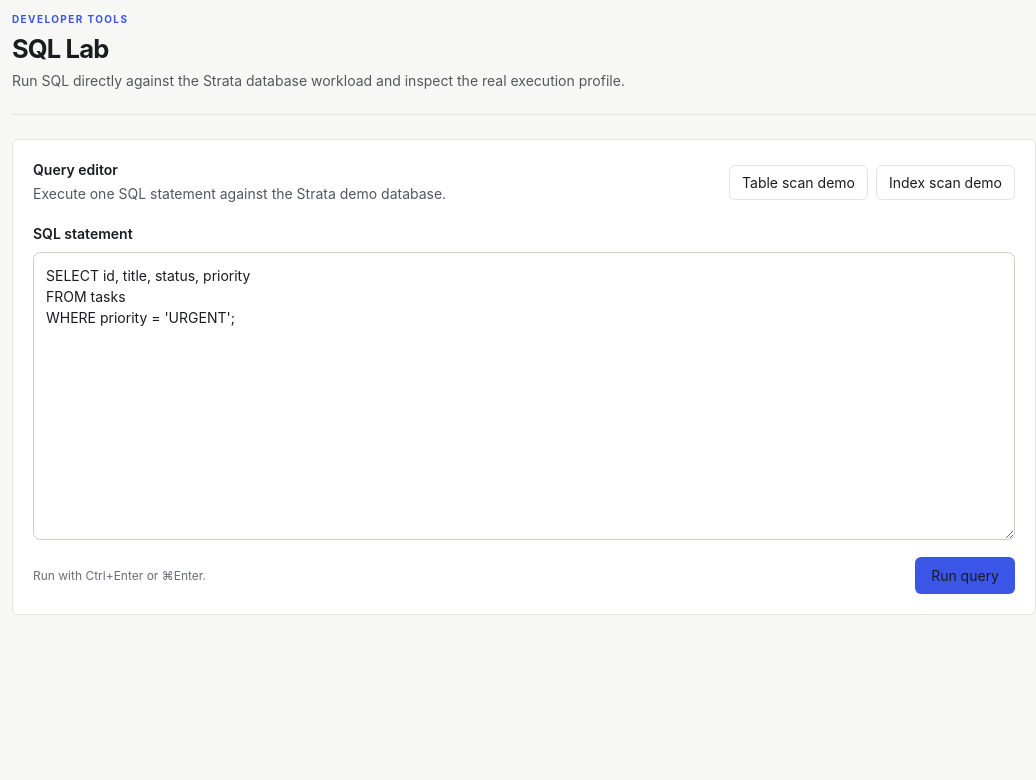
Scenario: SqlConsolePage › renders backend-unavailable guidance for network failures
Click the button "Run query".
click(965, 576)  # box [915,557,1015,594]
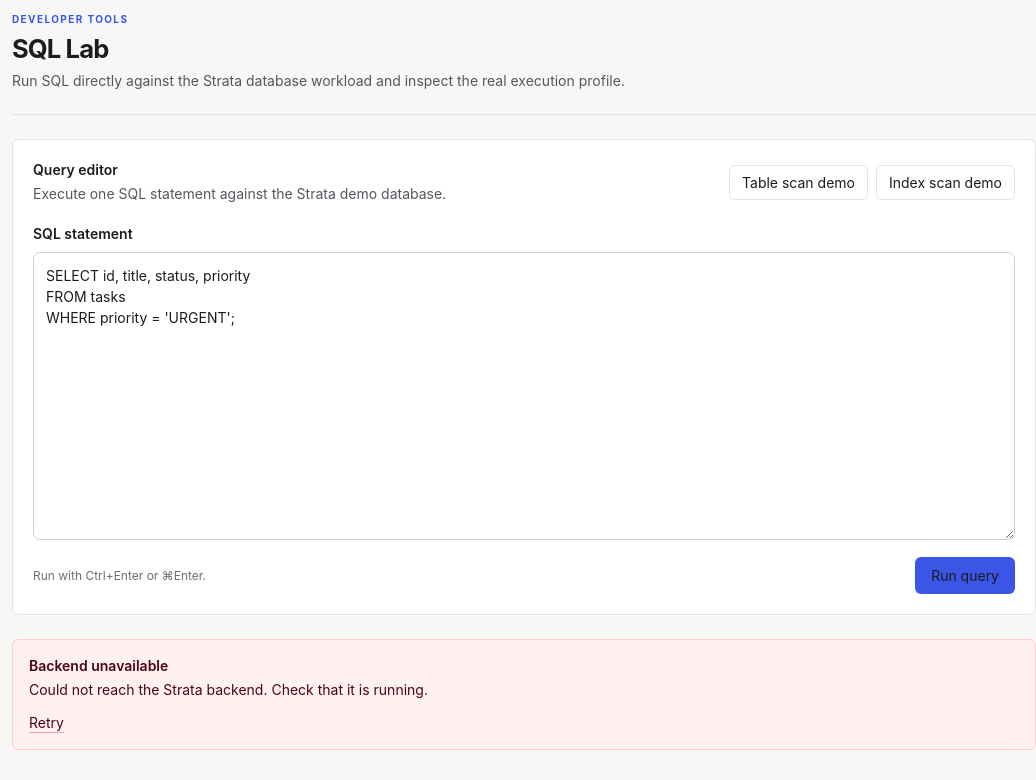
expect the message shows "Could not reach the Strata backend. Check that it is running.": met, box [29,681,428,698]
